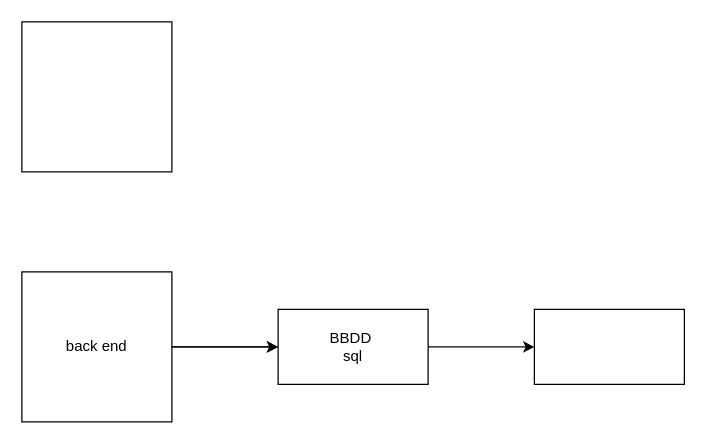
This 706x444 diagram has some shape labels left out. The shapes that lost their labels are listed below. From the top down, each one's box as (x1, y1, x2, y2) in pixels, then its label:
(21, 21, 172, 172): front end
(533, 308, 684, 384): EXPRESS
